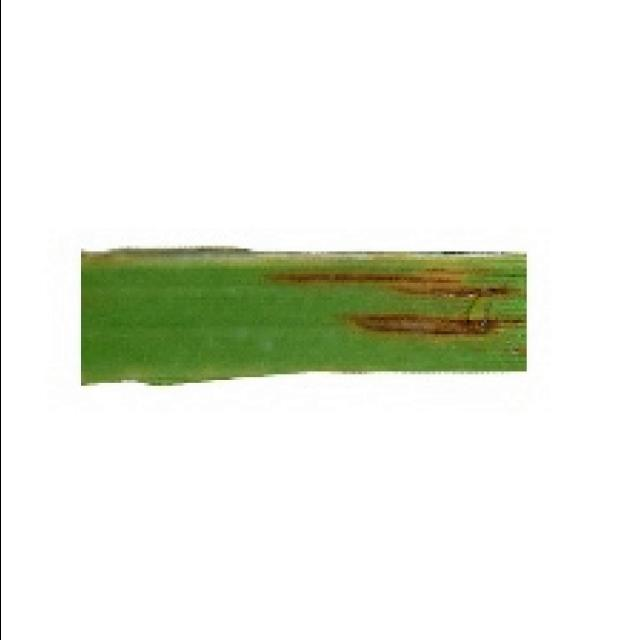Unhealthy: (274, 271, 510, 300), (346, 314, 523, 340)
